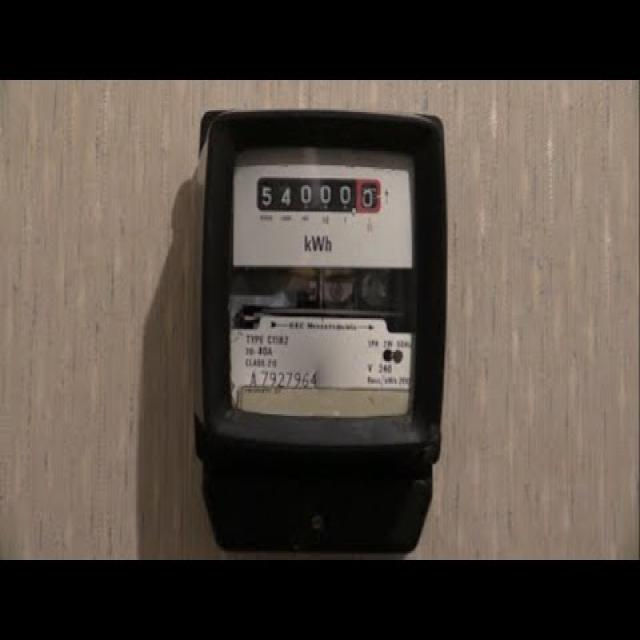.: (351, 207, 358, 218)
0: (356, 179, 380, 211), (336, 179, 356, 211), (296, 184, 316, 212), (316, 182, 334, 208)
4: (277, 180, 296, 210)
5: (257, 180, 275, 210)
analog meter: (255, 176, 381, 209)
